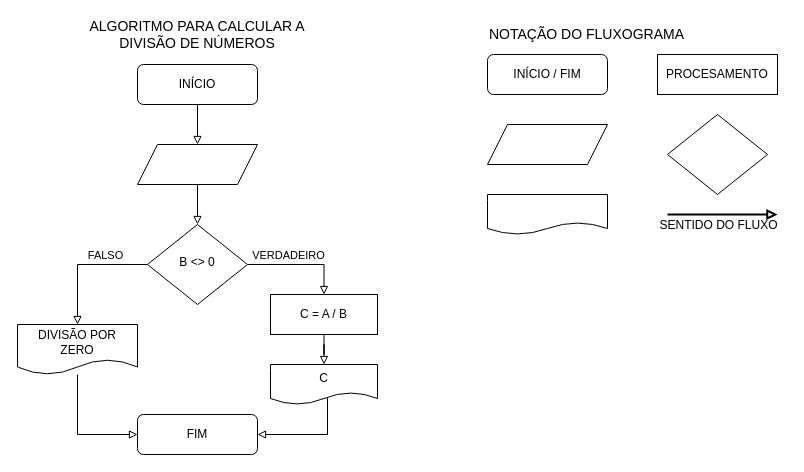
Some shapes in this 804 by 472 pixel diagram are drawn without their labels. Here are the shapes that lost their labels. From the top down, the centre of each, then its label:
At (x=197, y=164): "A, B".
At (x=547, y=144): "ENTRADA".
At (x=717, y=154): "DECISÃO".
At (x=547, y=214): "SAÍDA".
